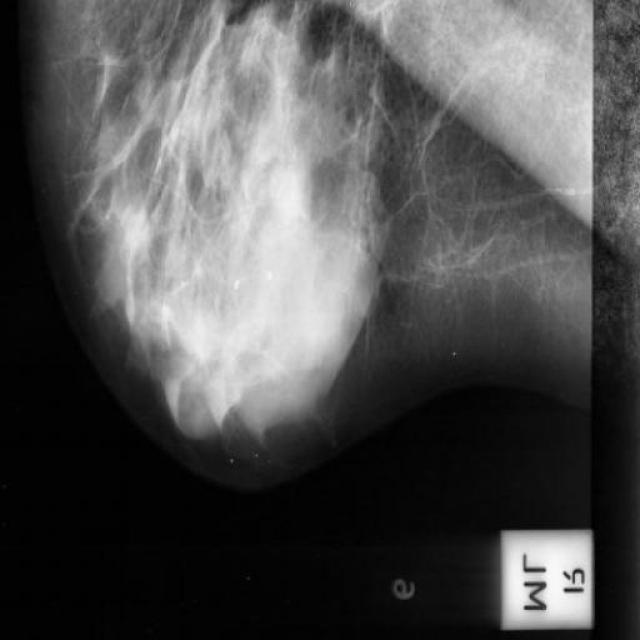cancer: (417, 332, 502, 416)
